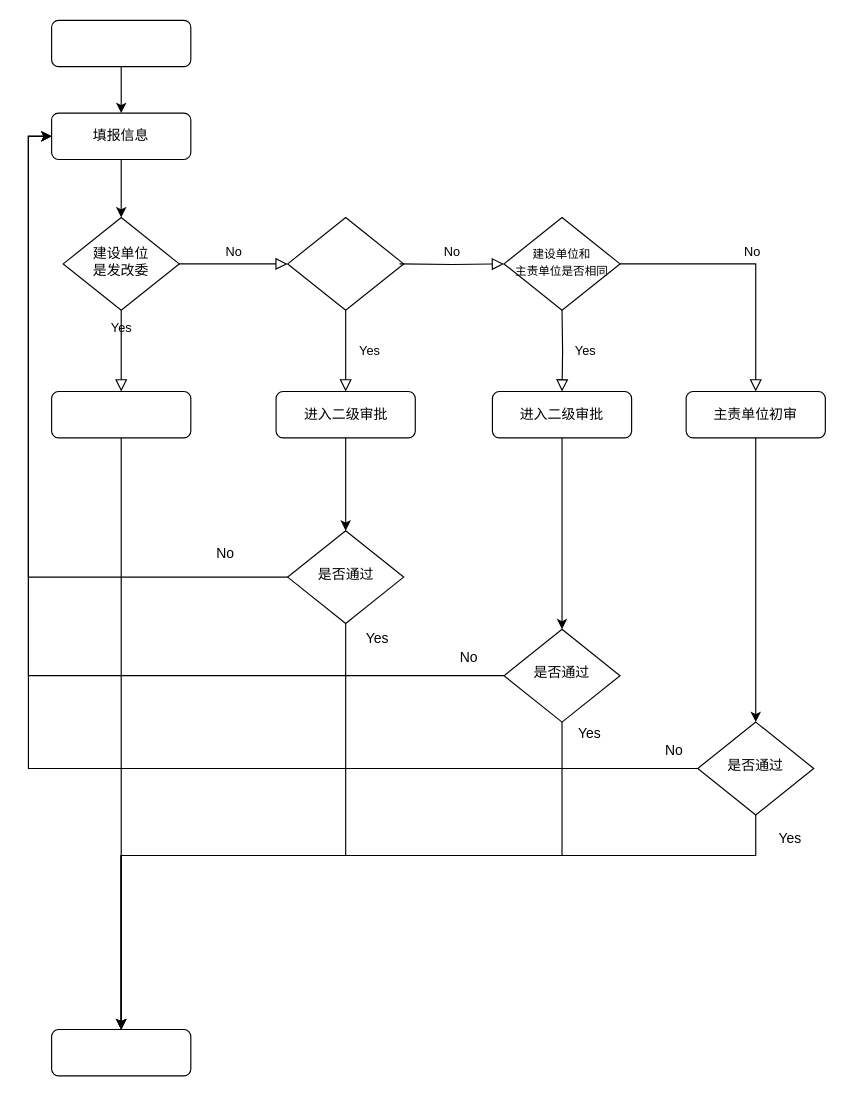
This 846x1096 diagram has some shape labels left out. The shapes that lost their labels are listed below. From the top down, each one's centre as x and y in pixels, then its label:
At point (120, 43): "开始".
At point (345, 263): "主责单位 是发改委".
At point (120, 414): "月报无需审核".
At point (120, 1052): "结束".
